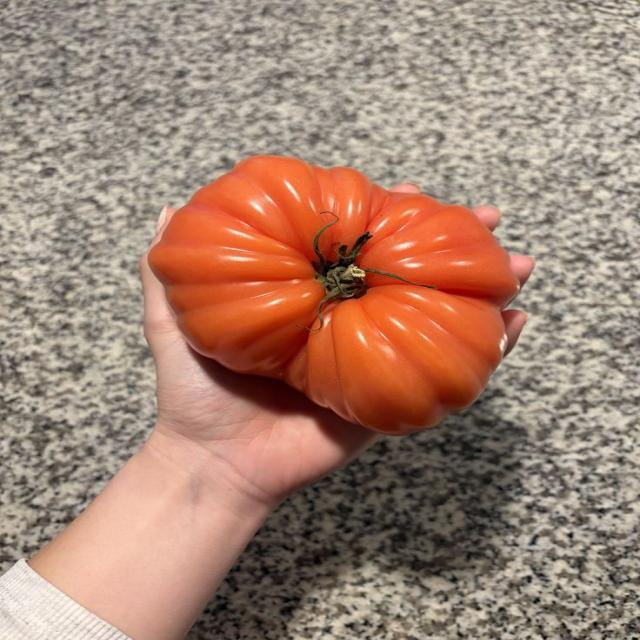tomato: (149, 156, 518, 434)
